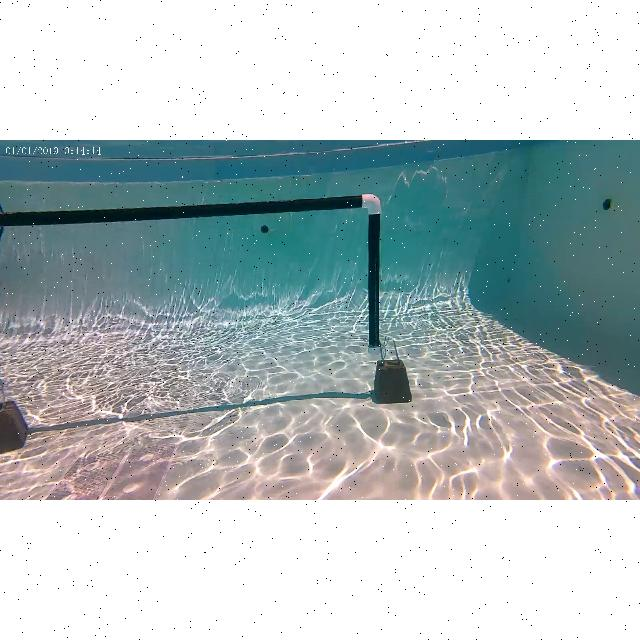prequal gate: (0, 191, 382, 361)
prequal gate leg r: (348, 187, 418, 405)
